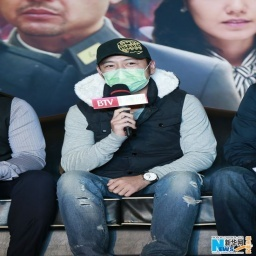correctlyWear: (96, 56, 156, 95)
